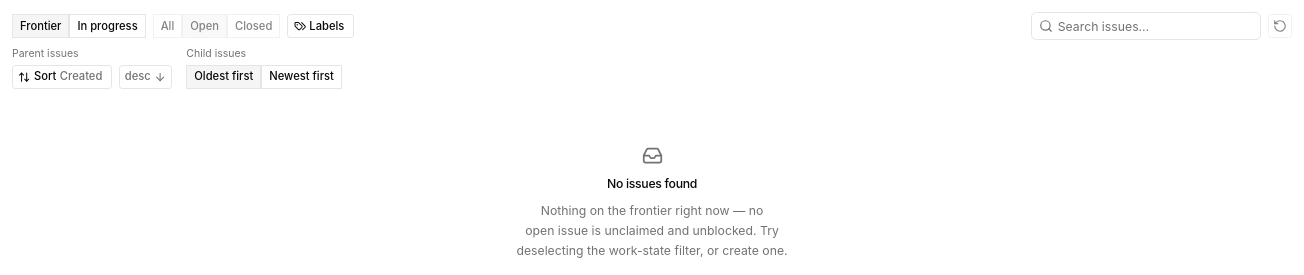
Test: IssueList › renders the claimed-empty state for the In progress view
expect the text "No issues found" is shown: met, box [607,175,697,192]
Click the radio button labelled "In progress". click: [108, 26]
box: [69,14,146,38]
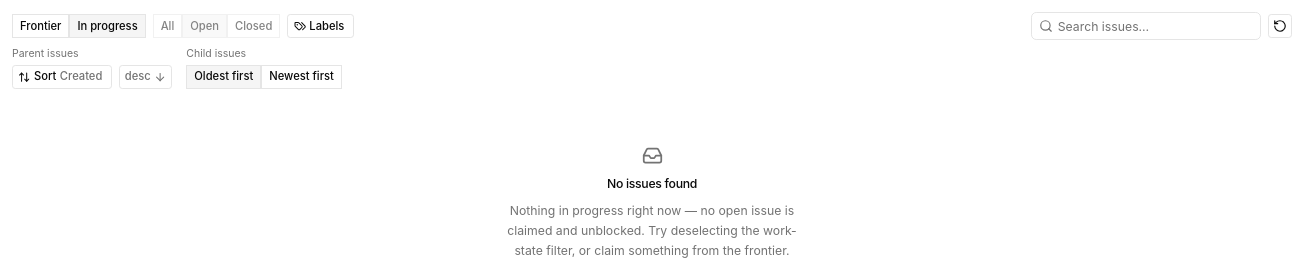
expect the text "Nothing in progress right now" is shown: met, box [507,203,797,258]
